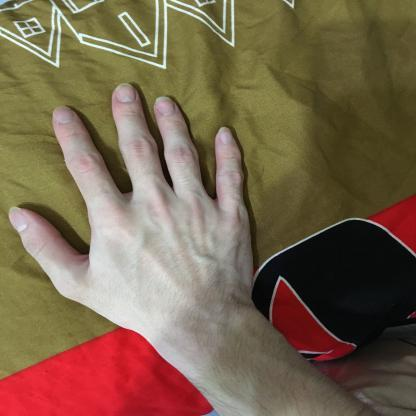bare_hand: (0, 67, 264, 356)
